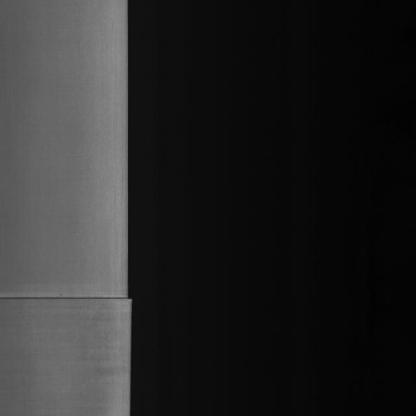welding_line: (0, 279, 142, 320)
